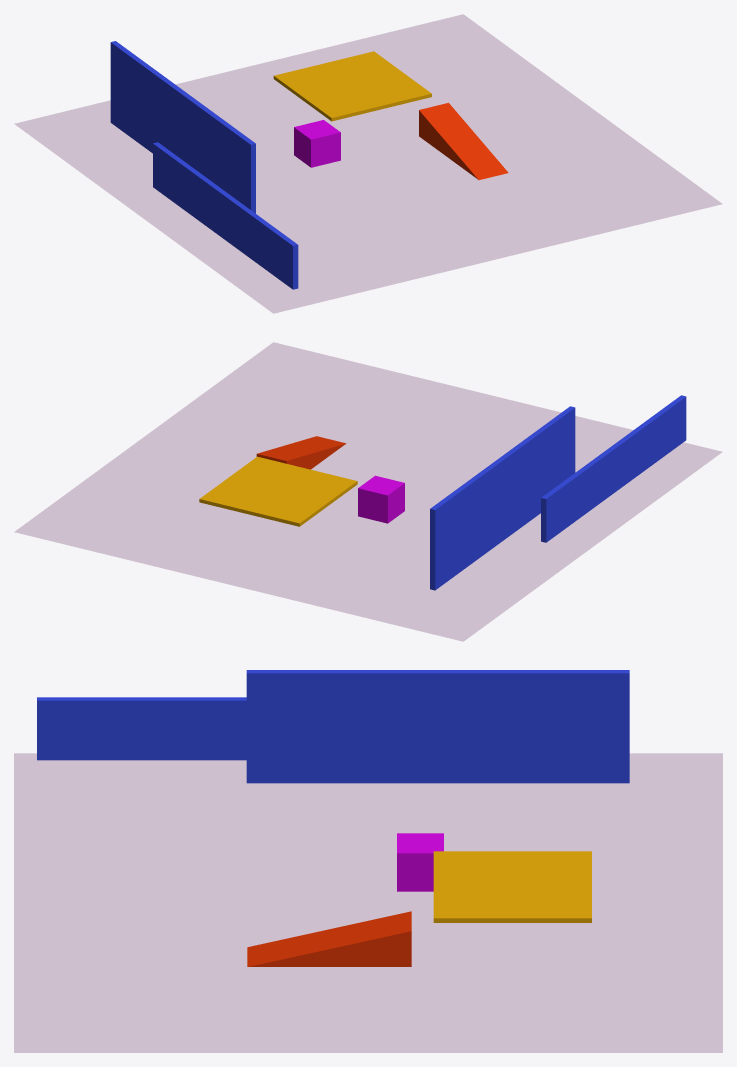
The model's file is level1.glb.
3 renders of one model, top to bottom at view 1: azimuth 30°, elevation 25°; view 2: azimuth 150°, elevation 25°; view 3: azimuth 270°, elevation 25°, orthographic. The views are drawn at different scales.
Parts seen in each view (by area): view 1: Cube, Cube.005, Cube.004, Cube.003, Cube.002, Cube.001; view 2: Cube, Cube.005, Cube.004, Cube.003, Cube.001, Cube.002; view 3: Cube, Cube.005, Cube.004, Cube.003, Cube.002, Cube.001.
Part boxes in pixels (left/top/right/bottom): Cube: left=14, top=14, right=722, bottom=313; Cube.005: left=110, top=41, right=255, bottom=213; Cube.004: left=153, top=142, right=298, bottom=289; Cube.003: left=273, top=51, right=431, bottom=121; Cube.002: left=419, top=102, right=508, bottom=179; Cube.001: left=294, top=120, right=340, bottom=167; Cube: left=14, top=342, right=722, bottom=641; Cube.005: left=430, top=406, right=575, bottom=590; Cube.004: left=541, top=395, right=686, bottom=542; Cube.003: left=199, top=456, right=357, bottom=526; Cube.001: left=358, top=475, right=404, bottom=523; Cube.002: left=256, top=436, right=346, bottom=469; Cube: left=14, top=753, right=722, bottom=1052; Cube.005: left=246, top=670, right=629, bottom=783; Cube.004: left=37, top=697, right=246, bottom=760; Cube.003: left=433, top=851, right=591, bottom=922; Cube.002: left=247, top=911, right=411, bottom=966; Cube.001: left=397, top=833, right=443, bottom=891.
Bounding box in the file's own units: 30.11 × 5.85 × 30.11.
